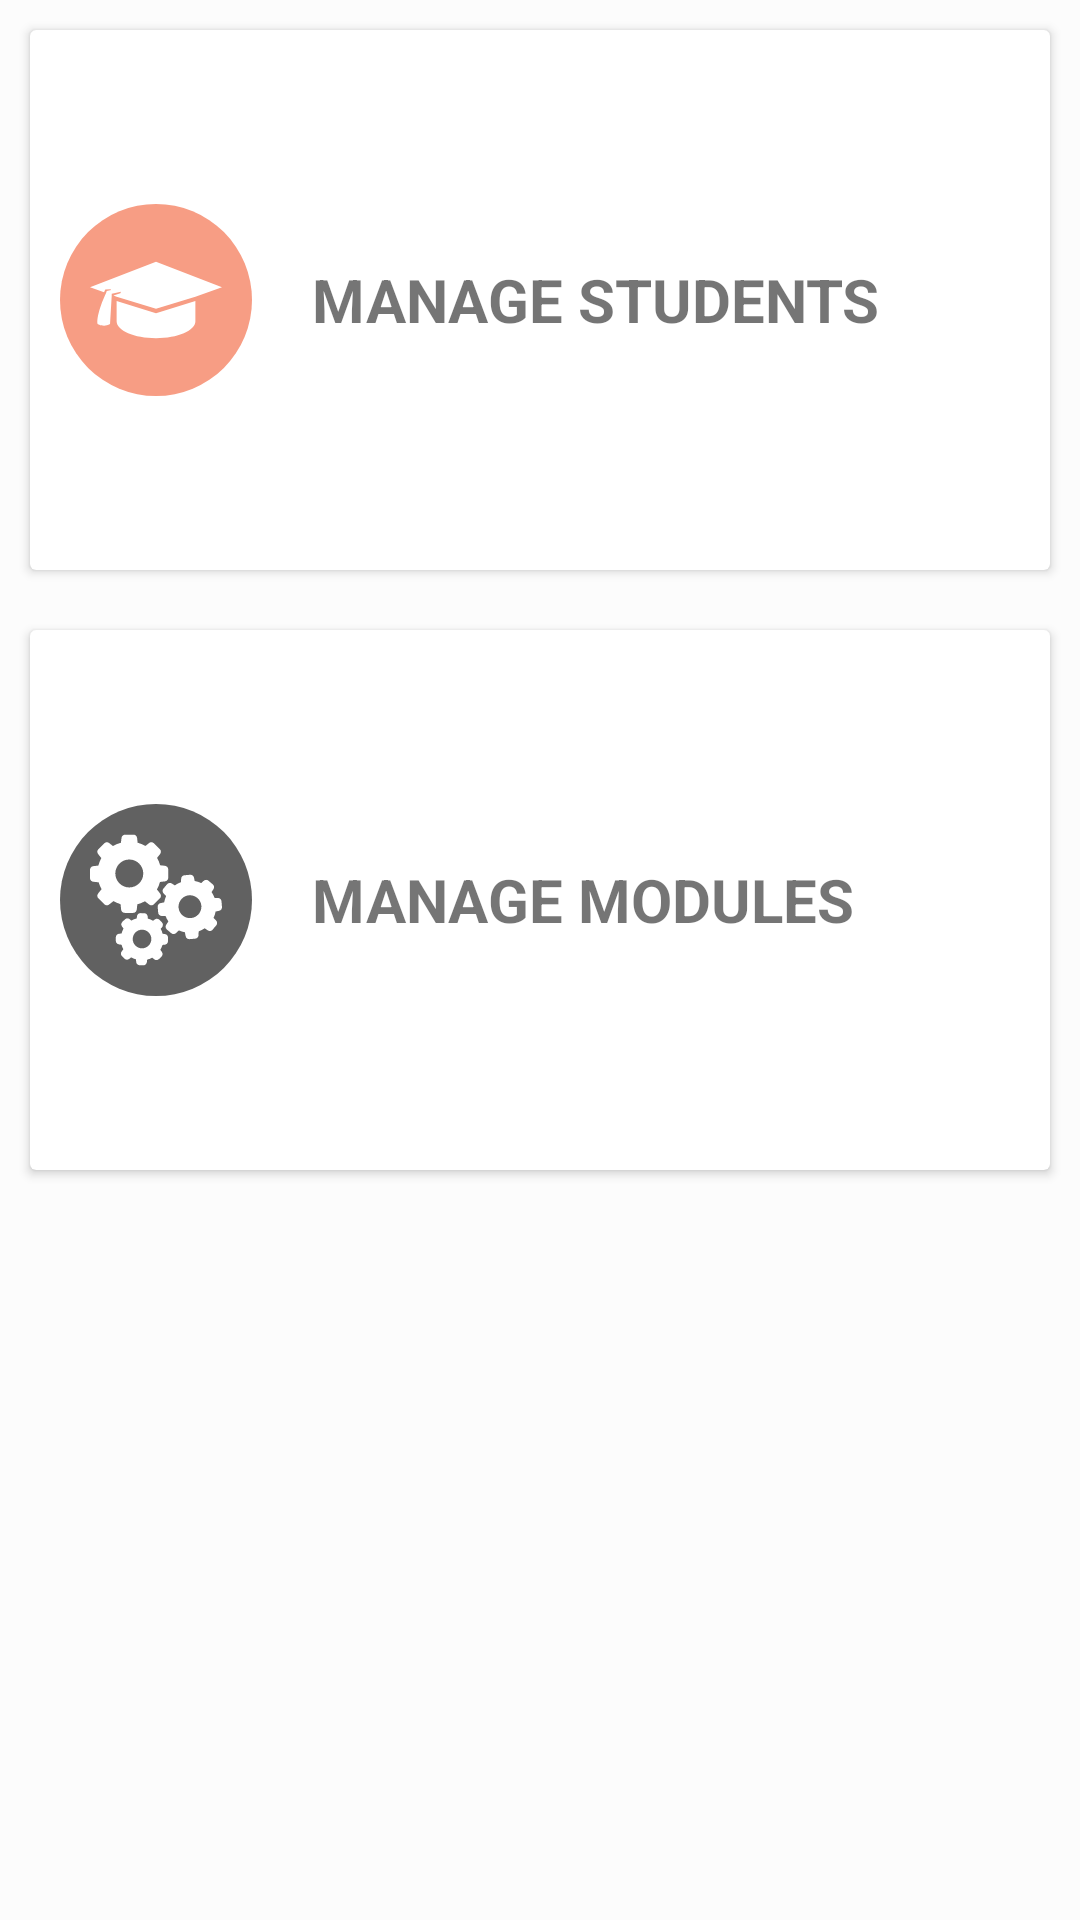

Where to tap for icons on this 1080 x 1920 app screen, as (x=x, y=y):
manager gears: (x=156, y=900)
students cap: (x=156, y=300)
